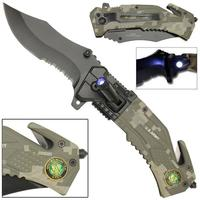knife: (2, 1, 187, 187)
